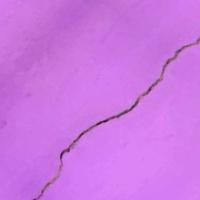crack: (28, 35, 199, 199)
